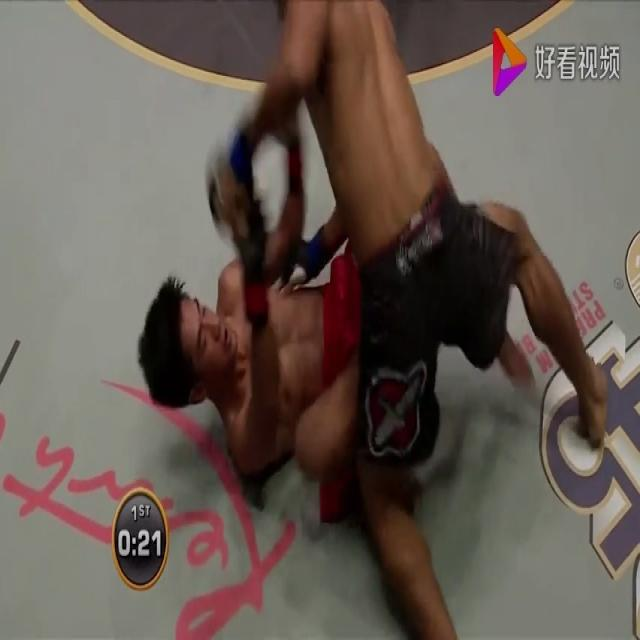fight: (128, 0, 611, 640)
